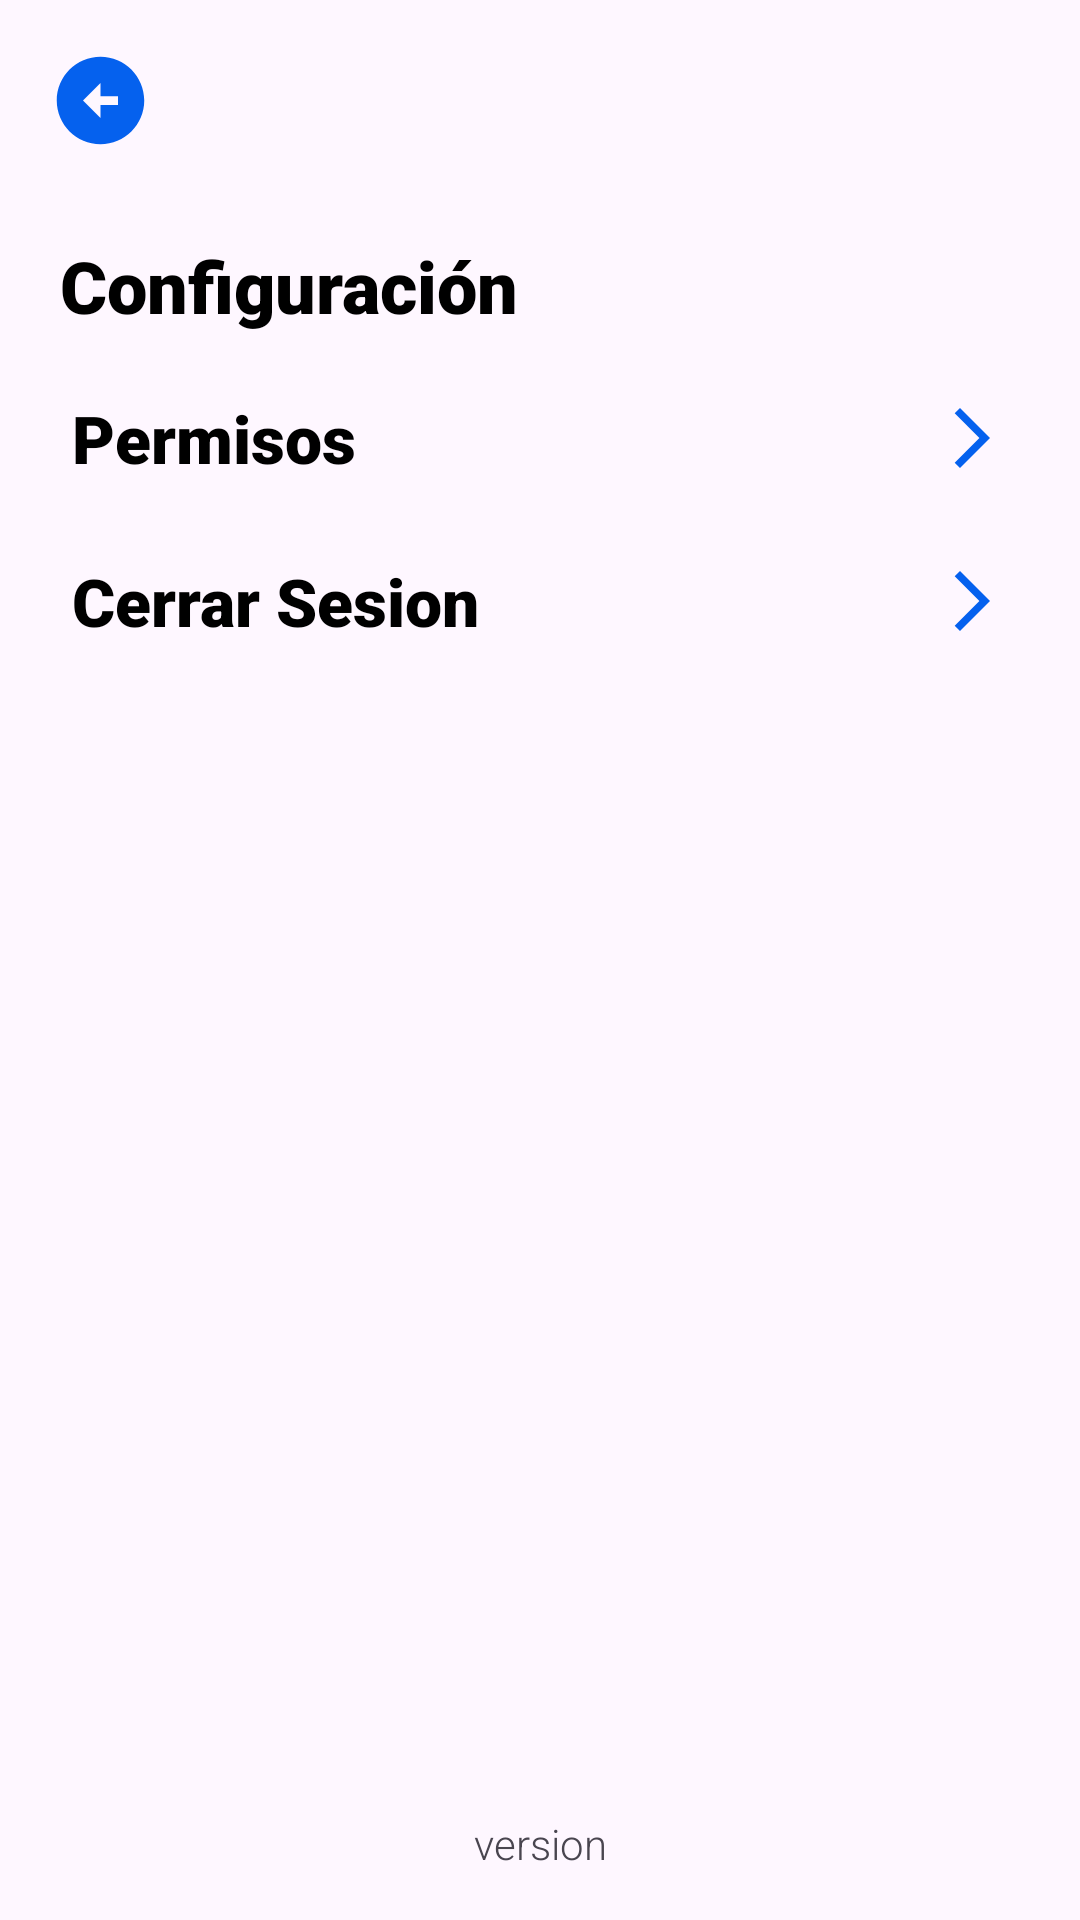

Screen size 1080 × 1920. Icon name, then its center in pixels as point (x, y):
arrow circle left: point (100, 100)
arrow forward: point (972, 438), point (972, 601)
